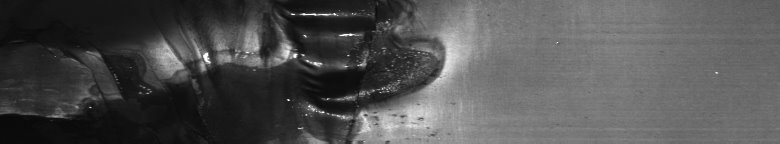ke: (73, 0, 448, 144)
